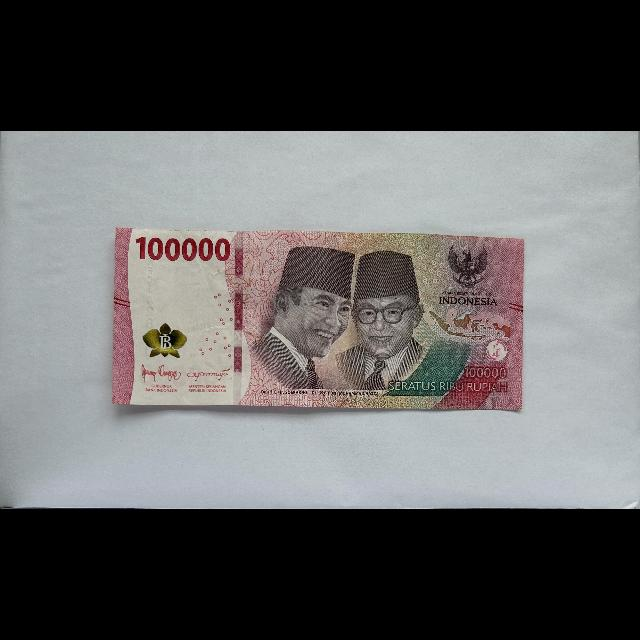Asli-100k: (111, 226, 525, 412)
Tinta-Asli-100k: (142, 322, 188, 360)
